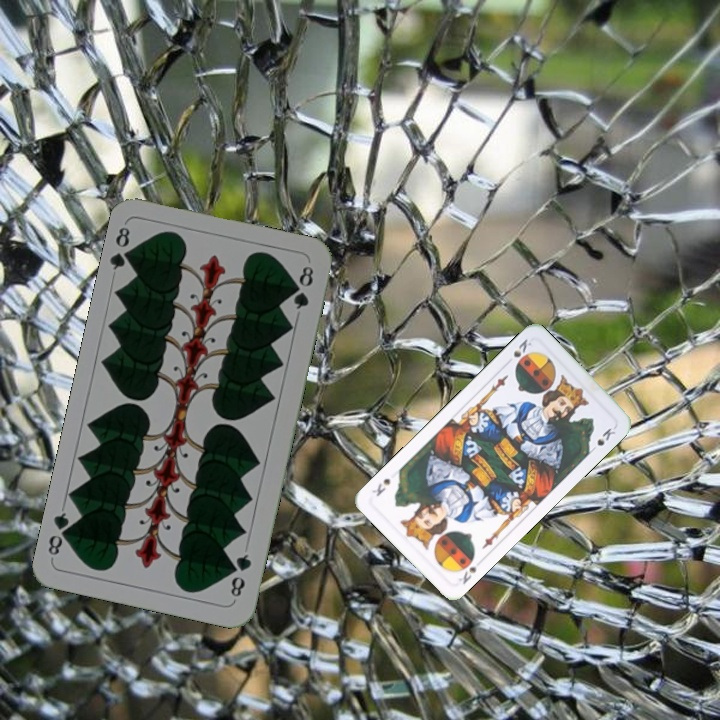G8: (106, 223, 138, 273), (226, 550, 254, 600)
SK: (509, 335, 534, 360), (454, 563, 479, 587)
